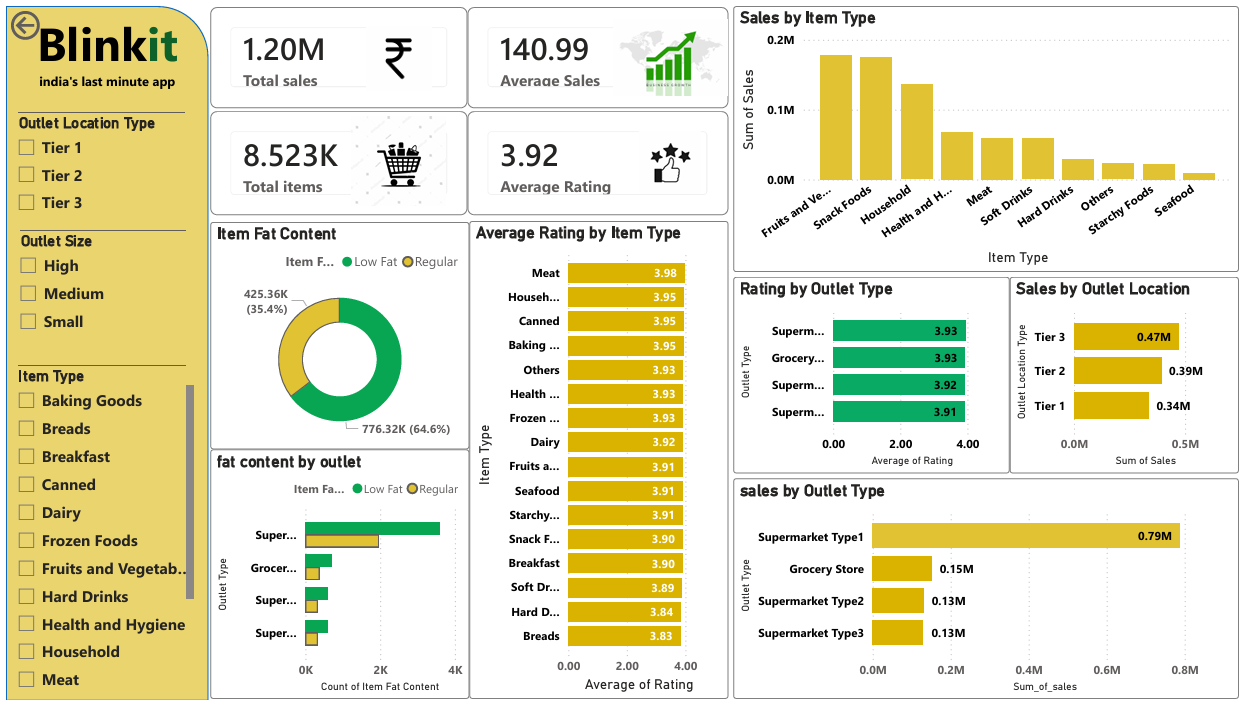

This screenshot's page, from the dashboard's own definition file:
{"tool":"powerbi","page":{"name":"Blinkit sales analysis","canvas":[1280,720],"ordinal":0},"visuals":[{"type":"barChart","title":"Average Rating by Item Type","fields":{"Category":["Sheet1.Item Type"],"Y":["Avg(Sheet1.Rating)"]},"box":[480.7,222.9,268.9,496],"z":0},{"type":"shape","box":[0,0,210.3,720.6],"z":1000},{"type":"slicer","fields":{"Values":["Sheet1.Item Type"]},"box":[0,368.3,200,351.7],"z":2000},{"type":"slicer","fields":{"Values":["Sheet1.Outlet Location Type"]},"box":[0,105.1,198.6,118.5],"z":3000},{"type":"slicer","fields":{"Values":["Sheet1.Outlet Size"]},"box":[1.7,228.3,198.3,131.7],"z":4000},{"type":"textbox","box":[0,0,210.3,105.1],"z":5000},{"type":"cardVisual","fields":{"Data":["Sum(Sheet1.Sales)"]},"box":[211.8,1.4,267.5,104.5],"z":6000},{"type":"cardVisual","fields":{"Data":["Avg(Sheet1.Sales)"]},"box":[479.3,1.4,270.3,104.5],"z":7000},{"type":"cardVisual","fields":{"Data":["Avg(Sheet1.Rating)"]},"box":[479.3,108.7,270.3,108.7],"z":8000},{"type":"cardVisual","fields":{"Data":["Count(Sheet1.Column1)"]},"box":[211.8,108.7,267.5,108.7],"z":9000},{"type":"donutChart","title":"Item Fat Content","fields":{"Y":["Sum(Sheet1.Sales)"],"Series":["Sheet1.Item Fat Content"]},"box":[211.8,224.3,268.9,235.5],"z":10000},{"type":"clusteredBarChart","title":"fat content by outlet","fields":{"Category":["Sheet1.Outlet Type"],"Y":["CountNonNull(Sheet1.Item Fat Content)"],"Series":["Sheet1.Item Fat Content"]},"box":[211.8,459.8,268.9,259.1],"z":11000},{"type":"columnChart","title":"Sales by Item Type","fields":{"Category":["Sheet1.Item Type"],"Y":["Sum(Sheet1.Sales)"]},"box":[755.1,0,525.2,275.9],"z":12000},{"type":"barChart","title":"Rating by Outlet Type","fields":{"Category":["Sheet1.Outlet Type"],"Y":["Avg(Sheet1.Rating)"]},"box":[755.1,281.4,287,203.4],"z":13000},{"type":"clusteredBarChart","title":"sales by Outlet Type","fields":{"Category":["Sheet1.Outlet Type"],"Y":["Sheet1.Sum_of_sales"]},"box":[755.1,490.4,525.2,228.5],"z":14000},{"type":"barChart","title":"Sales by Outlet Location ","fields":{"Category":["Sheet1.Outlet Location Type"],"Y":["Sum(Sheet1.Sales)"]},"box":[1041.8,281.4,238.2,203.4],"z":15000},{"type":"actionButton","box":[0,0,100,40],"z":16000},{"type":"image","box":[631.1,4.2,118.4,98.9],"z":17000},{"type":"image","box":[657.6,117,64.1,90.6],"z":18000},{"type":"image","box":[359.4,112.8,97.5,97.5],"z":19000},{"type":"image","box":[326,20.9,163,66.9],"z":20000}]}

Visuals, with their boxes in screenshot pixels (x1, y1, x2, y2), scaled from the page's 1280x720 canvas onto the 1240x702 screenshot:
"Average Rating by Item Type" barChart: {"left": 466, "top": 217, "right": 726, "bottom": 701}
shape: {"left": 0, "top": 0, "right": 204, "bottom": 701}
slicer - Sheet1.Item Type: {"left": 0, "top": 359, "right": 194, "bottom": 701}
slicer - Sheet1.Outlet Location Type: {"left": 0, "top": 102, "right": 192, "bottom": 218}
slicer - Sheet1.Outlet Size: {"left": 2, "top": 223, "right": 194, "bottom": 351}
textbox: {"left": 0, "top": 0, "right": 204, "bottom": 102}
cardVisual - Sum(Sheet1.Sales): {"left": 205, "top": 1, "right": 464, "bottom": 103}
cardVisual - Avg(Sheet1.Sales): {"left": 464, "top": 1, "right": 726, "bottom": 103}
cardVisual - Avg(Sheet1.Rating): {"left": 464, "top": 106, "right": 726, "bottom": 212}
cardVisual - Count(Sheet1.Column1): {"left": 205, "top": 106, "right": 464, "bottom": 212}
"Item Fat Content" donutChart: {"left": 205, "top": 219, "right": 466, "bottom": 448}
"fat content by outlet" clusteredBarChart: {"left": 205, "top": 448, "right": 466, "bottom": 701}
"Sales by Item Type" columnChart: {"left": 732, "top": 0, "right": 1239, "bottom": 269}
"Rating by Outlet Type" barChart: {"left": 732, "top": 274, "right": 1010, "bottom": 473}
"sales by Outlet Type" clusteredBarChart: {"left": 732, "top": 478, "right": 1239, "bottom": 701}
"Sales by Outlet Location " barChart: {"left": 1009, "top": 274, "right": 1239, "bottom": 473}
actionButton: {"left": 0, "top": 0, "right": 97, "bottom": 39}
image: {"left": 611, "top": 4, "right": 726, "bottom": 101}
image: {"left": 637, "top": 114, "right": 699, "bottom": 202}
image: {"left": 348, "top": 110, "right": 443, "bottom": 205}
image: {"left": 316, "top": 20, "right": 474, "bottom": 86}
